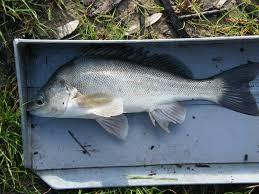Silver Perch: (26, 52, 254, 136)
